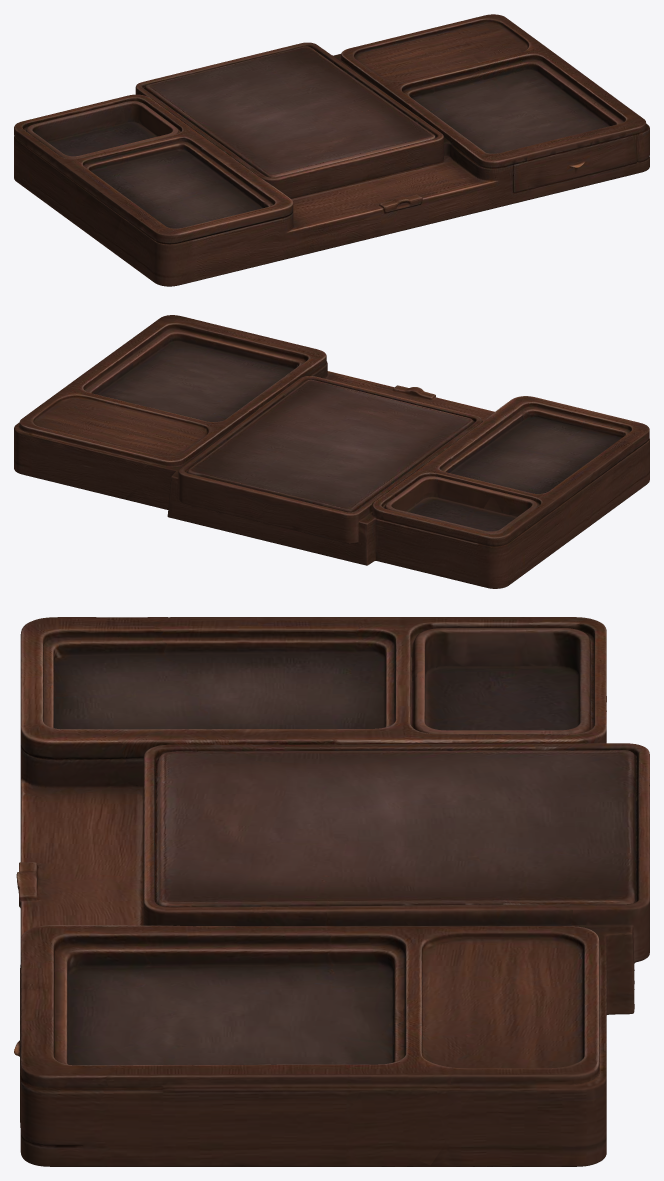
Rendered from desk-organizer.glb.
3 renders of one model, top to bottom at view 1: azimuth 30°, elevation 25°; view 2: azimuth 150°, elevation 25°; view 3: azimuth 270°, elevation 25°, orthographic. The views are drawn at different scales.
Visible parts, largest first — view 1: mesh_node; view 2: mesh_node; view 3: mesh_node.
Boxes of the visible parts, box(x1,y1,x2,y2) form: mesh_node: box(14, 14, 649, 286); mesh_node: box(14, 315, 649, 588); mesh_node: box(14, 617, 649, 1166).
Size of the model in its own units: 1.9 by 0.1907 by 1.13.
Materials: 1 (1 with a texture image).
